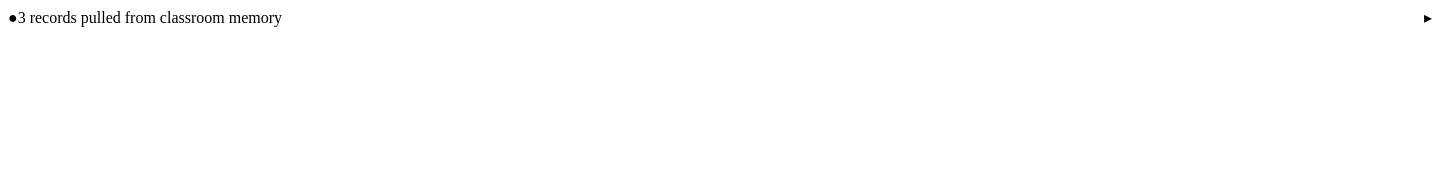
it: RetrievalTraceCard › expands on click to reveal each citation with its source type, id, and excerpt
The image size is (1440, 187).
Click the button "● 3 records pulled from classroom memory ▸".
click(150, 17)  # box [8,8,1432,27]
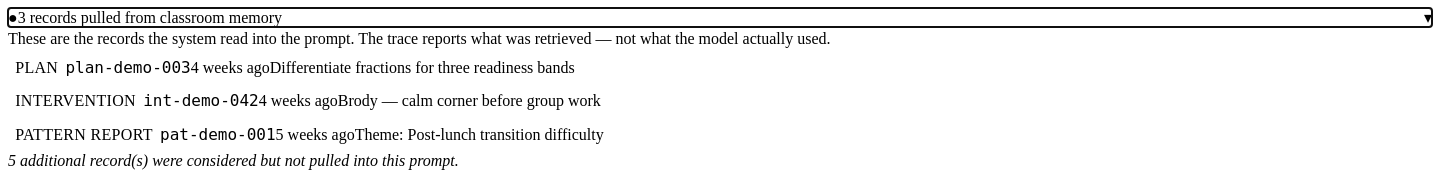
Now the text "plan-demo-003" is shown, box [65,56,191,80]
Now the text "int-demo-042" is shown, box [143,89,259,113]
Now the text "pat-demo-001" is shown, box [160,123,276,147]
